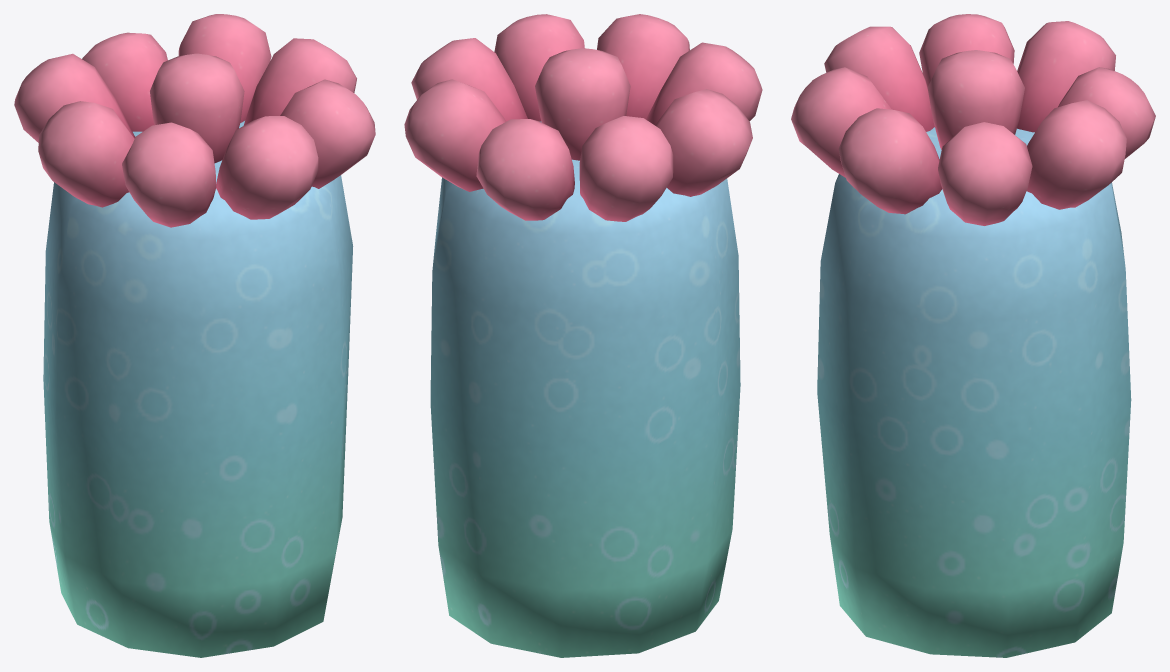
File: PolypPillar_Pink.fbx
3 renders of one model, left to right at view 1: azimuth 30°, elevation 25°; view 2: azimuth 150°, elevation 25°; view 3: azimuth 270°, elevation 25°, orthographic.
Visible parts, largest first — view 1: PolypPillar_Pink_S3; view 2: PolypPillar_Pink_S3; view 3: PolypPillar_Pink_S3.
Boxes of the visible parts, x1=… form: PolypPillar_Pink_S3: x1=14, y1=14, x2=375, y2=657; PolypPillar_Pink_S3: x1=404, y1=14, x2=762, y2=657; PolypPillar_Pink_S3: x1=791, y1=14, x2=1155, y2=657.
Size of the model in its own units: 0.3387 by 0.5513 by 0.3355.
